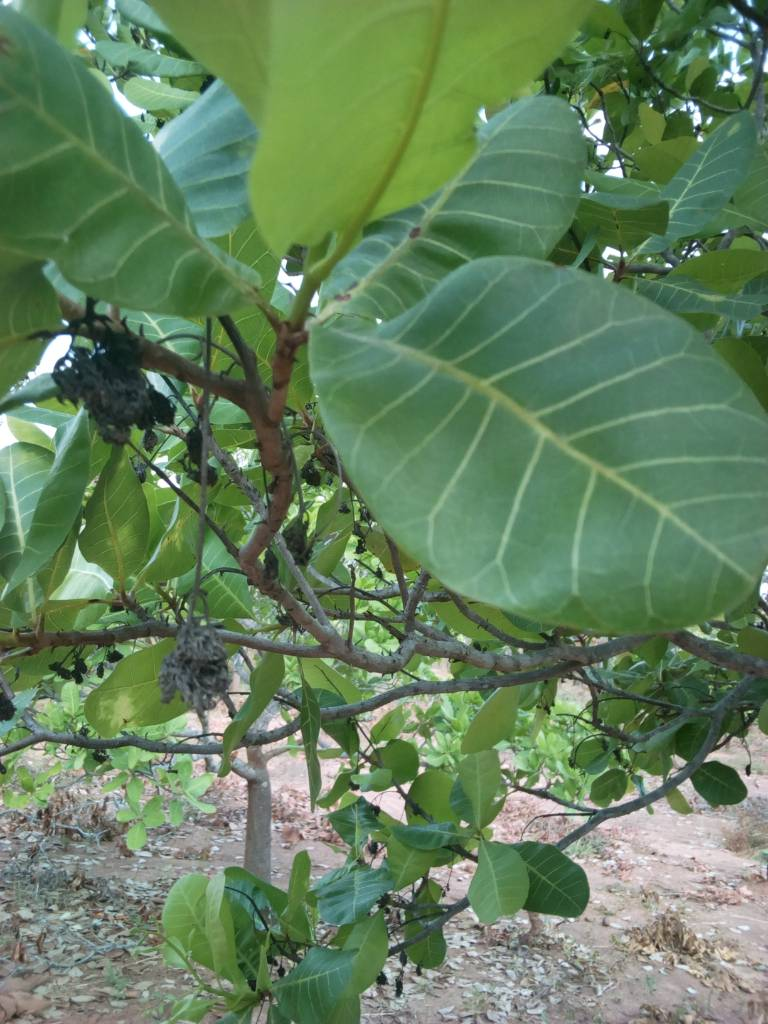Dessèchement des bourgeons: (24, 308, 174, 428), (257, 458, 327, 586), (163, 597, 227, 708)
